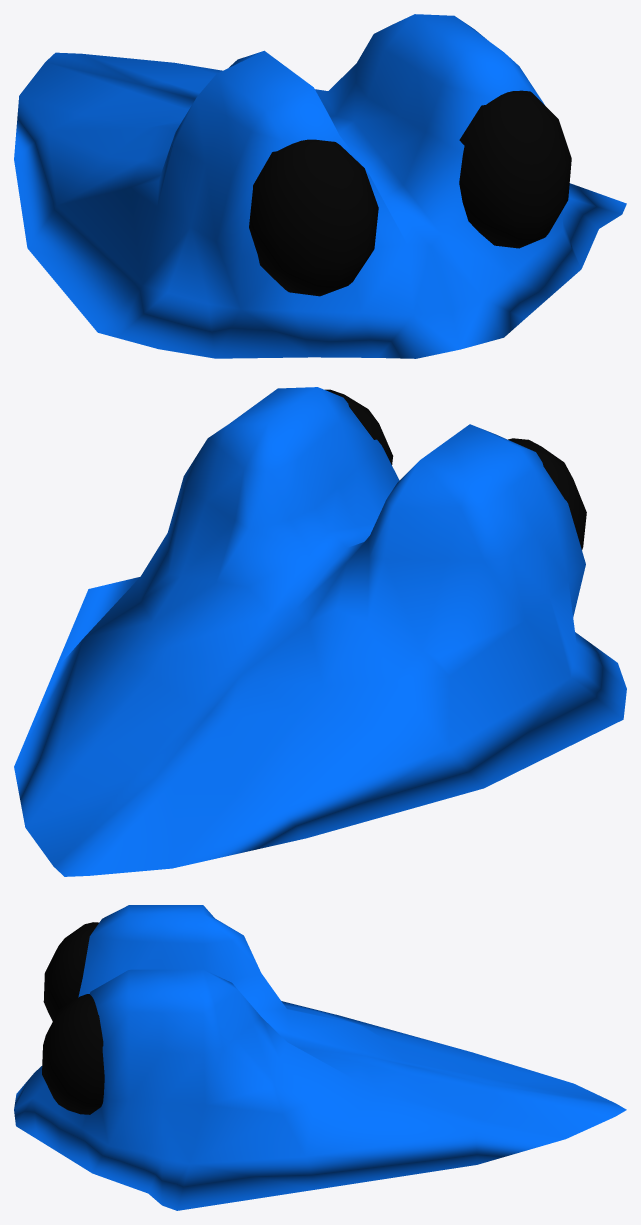
Rendered from sticky.FBX.
3 views of the same model, one above another, from view 1: azimuth 30°, elevation 25°; view 2: azimuth 150°, elevation 25°; view 3: azimuth 270°, elevation 25° (orthographic). The views are drawn at different scales.
Parts seen in each view (by area): view 1: Slippy_Body; view 2: Slippy_Body; view 3: Slippy_Body.
Part boxes in pixels (<box>): Slippy_Body: <box>14,14,626,358</box>; Slippy_Body: <box>14,387,626,876</box>; Slippy_Body: <box>14,905,626,1210</box>.
Size of the model in its own units: 149 by 198 by 60.58.
